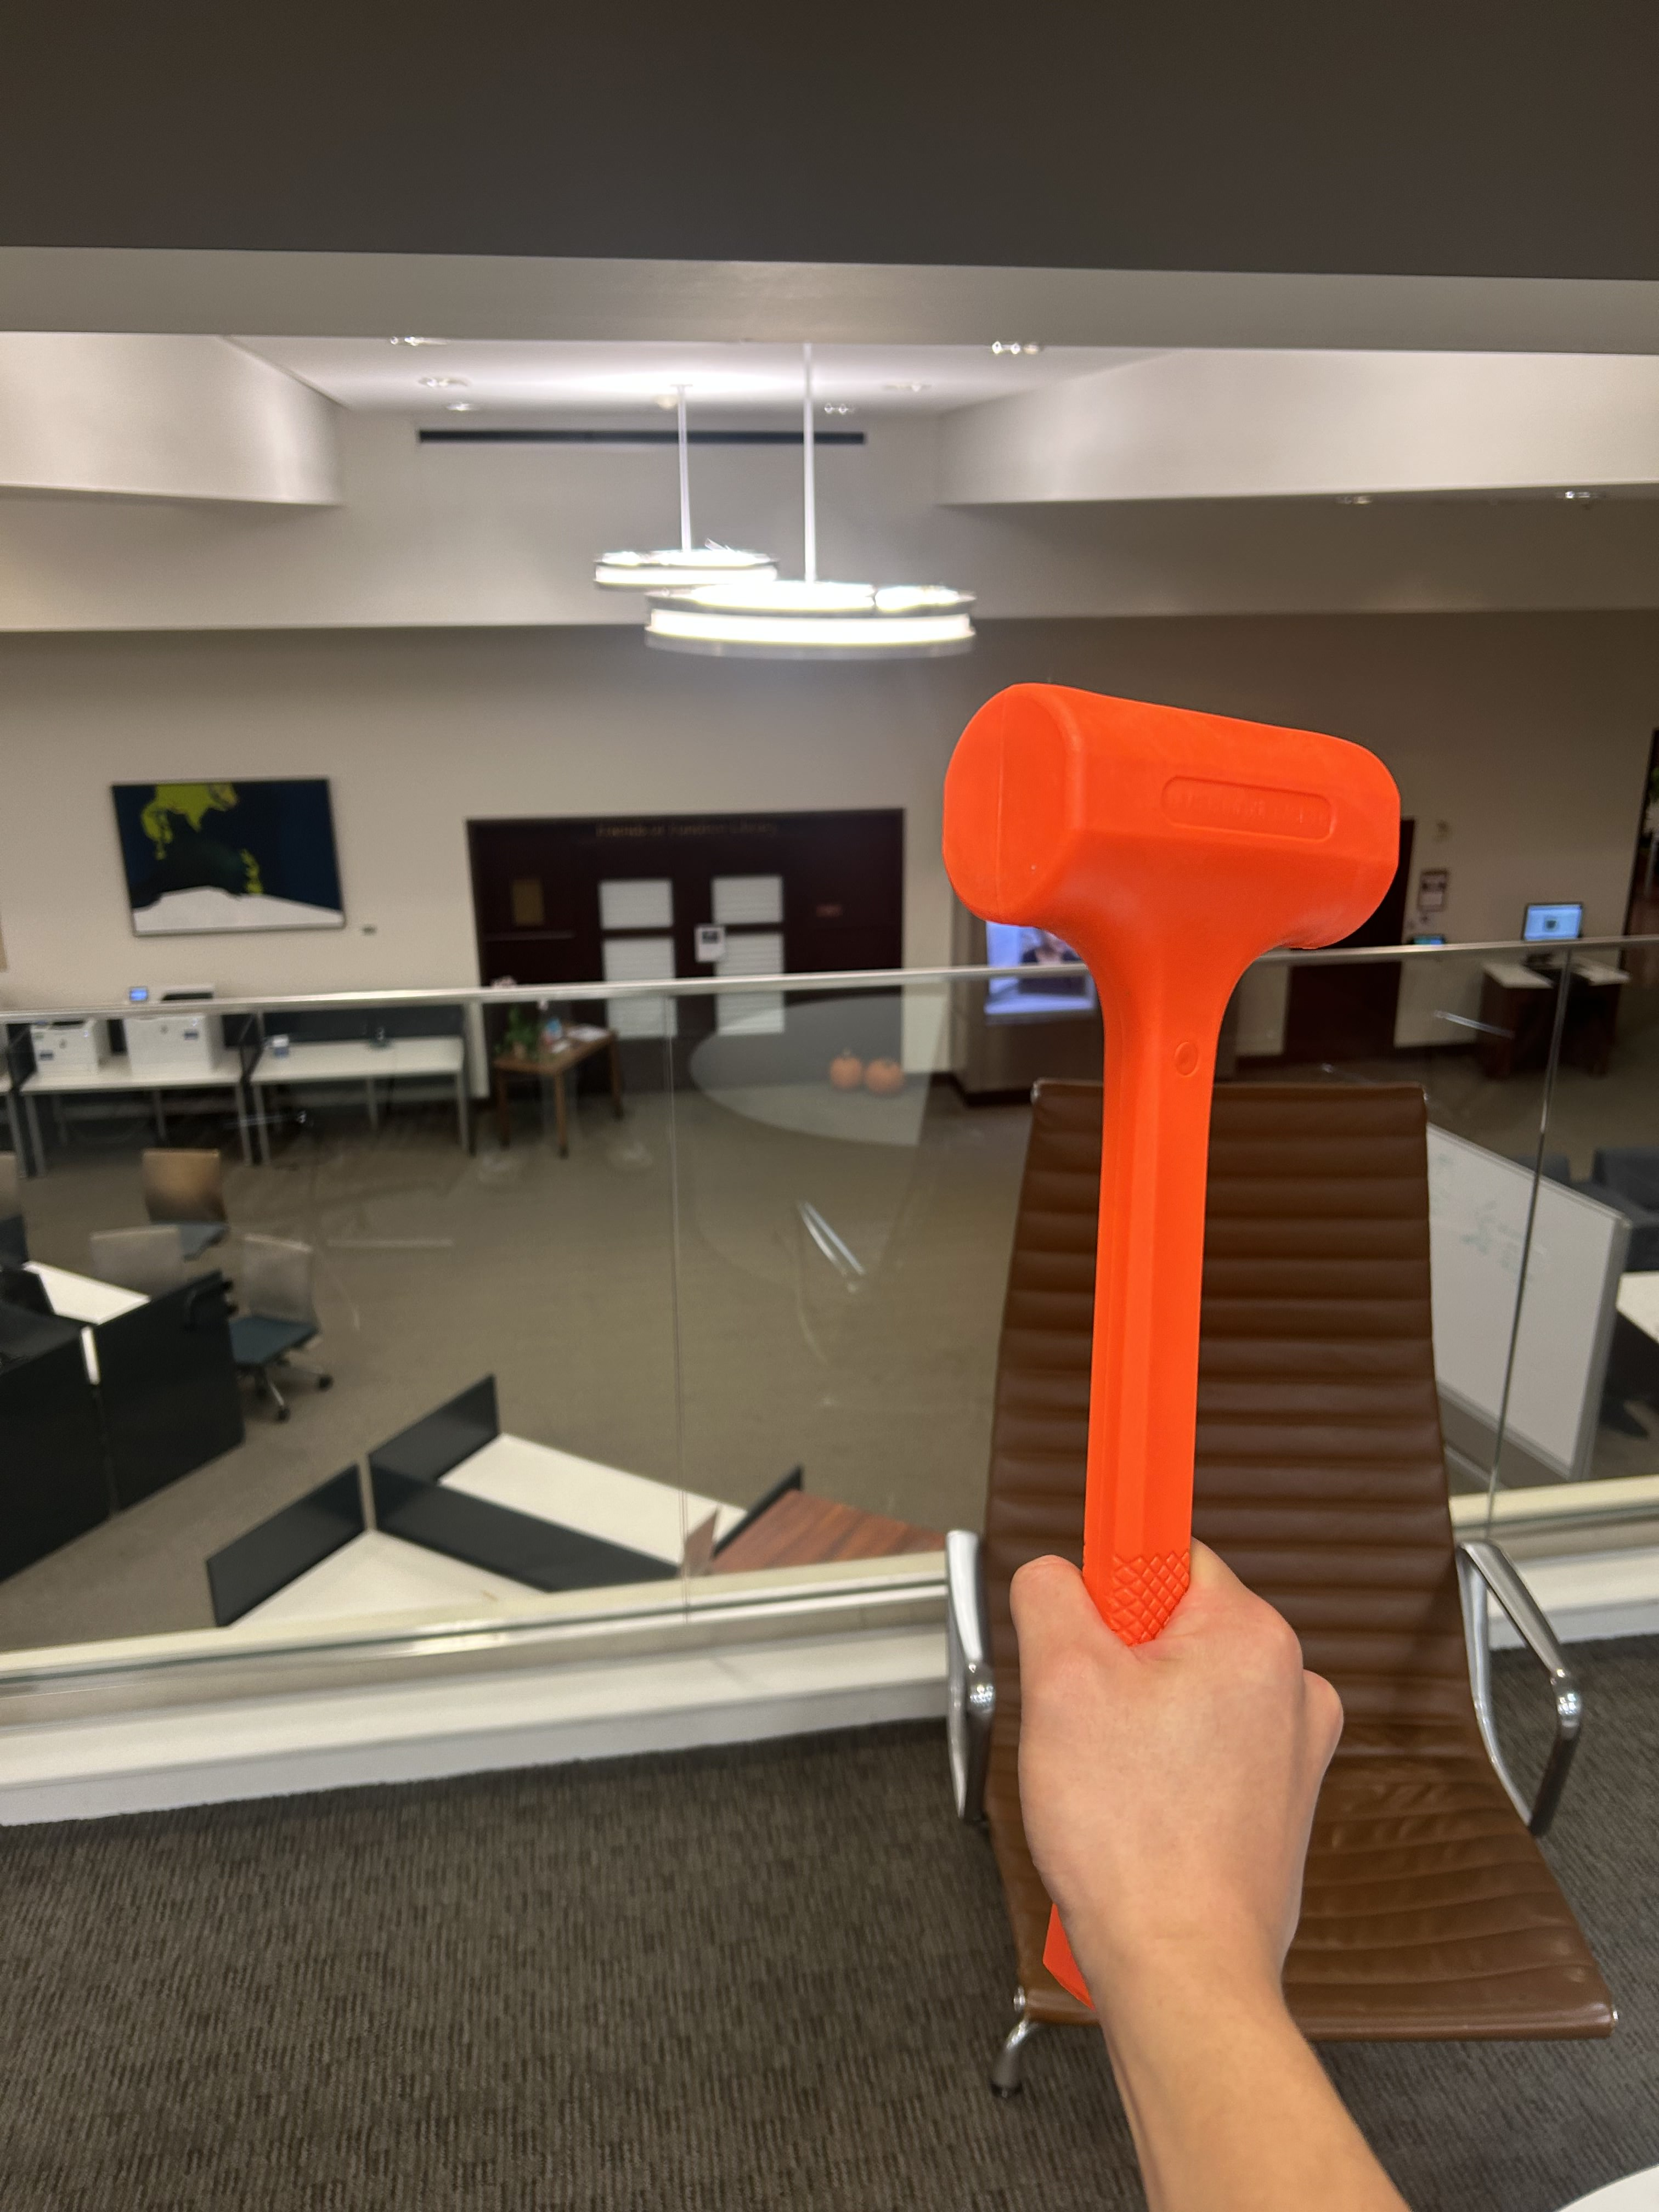Hammer: (796, 611, 1460, 2050)
